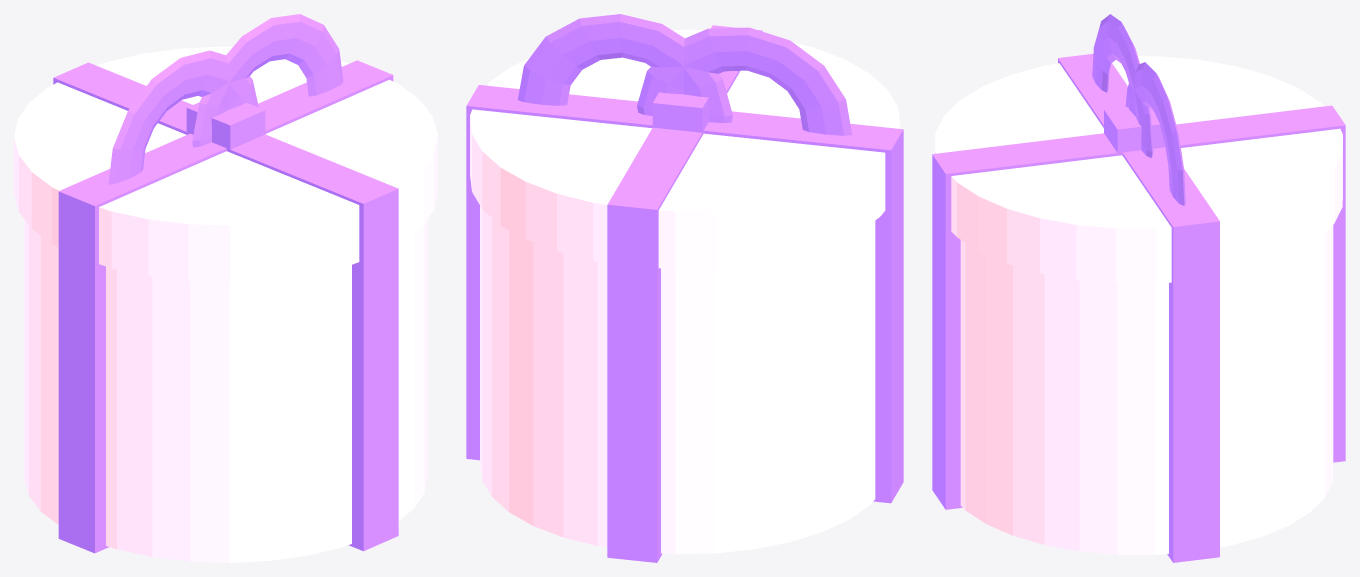
The model's file is Tmpl_Round_Root_222.glb.
The picture shows the model from 3 angles, left to right: view 1: azimuth 30°, elevation 25°; view 2: azimuth 150°, elevation 25°; view 3: azimuth 270°, elevation 25°; orthographic projection. The views are drawn at different scales.
Visible parts, largest first — view 1: Tmpl_Round_Base.220, Tmpl_Round_Lid.220, Tmpl_Round_Ribbon_X.220, Tmpl_Round_Ribbon_Y.220, Tmpl_Round_BowR.220, Tmpl_Round_BowL.220, Tmpl_Round_BowKnot.220; view 2: Tmpl_Round_Base.220, Tmpl_Round_Lid.220, Tmpl_Round_Ribbon_Y.220, Tmpl_Round_Ribbon_X.220, Tmpl_Round_BowR.220, Tmpl_Round_BowL.220, Tmpl_Round_BowKnot.220; view 3: Tmpl_Round_Base.220, Tmpl_Round_Lid.220, Tmpl_Round_Ribbon_X.220, Tmpl_Round_Ribbon_Y.220, Tmpl_Round_BowL.220, Tmpl_Round_BowR.220, Tmpl_Round_BowKnot.220.
Part boxes in pixels (x1,y1,x2,y2): Tmpl_Round_Base.220: (24, 219, 427, 562); Tmpl_Round_Lid.220: (14, 46, 437, 282); Tmpl_Round_Ribbon_X.220: (58, 60, 393, 553); Tmpl_Round_Ribbon_Y.220: (53, 62, 398, 551); Tmpl_Round_BowR.220: (192, 14, 343, 147); Tmpl_Round_BowL.220: (108, 50, 258, 184); Tmpl_Round_BowKnot.220: (186, 102, 265, 152); Tmpl_Round_Base.220: (480, 206, 875, 554); Tmpl_Round_Lid.220: (470, 29, 899, 269); Tmpl_Round_Ribbon_Y.220: (607, 25, 762, 562); Tmpl_Round_Ribbon_X.220: (466, 85, 903, 503); Tmpl_Round_BowR.220: (518, 14, 732, 123); Tmpl_Round_BowL.220: (637, 27, 851, 135); Tmpl_Round_BowKnot.220: (652, 92, 708, 135); Tmpl_Round_Base.220: (960, 225, 1333, 554); Tmpl_Round_Lid.220: (935, 56, 1342, 283); Tmpl_Round_Ribbon_X.220: (1058, 54, 1219, 562); Tmpl_Round_Ribbon_Y.220: (932, 105, 1345, 509); Tmpl_Round_BowL.220: (1092, 14, 1153, 157); Tmpl_Round_BowR.220: (1125, 62, 1185, 205); Tmpl_Round_BowKnot.220: (1104, 107, 1165, 155).
Size of the model in its own units: 0.7902 by 0.9025 by 0.7902.
